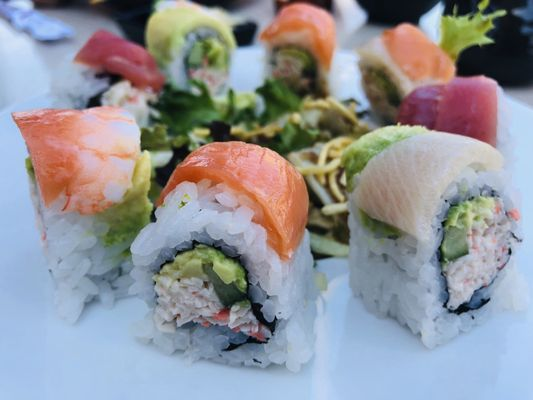soup: (134, 141, 322, 369), (340, 126, 520, 350)
